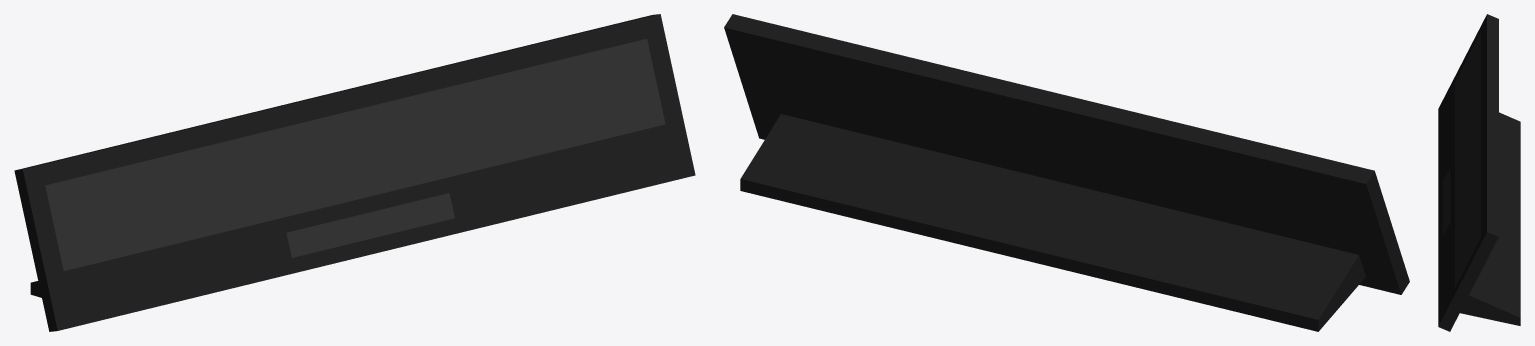
The model's file is NamePlateV1.fbx.
3 views of the same model, side by side, from view 1: azimuth 30°, elevation 25°; view 2: azimuth 150°, elevation 25°; view 3: azimuth 270°, elevation 25° (orthographic). The views are drawn at different scales.
Parts seen in each view (by area): view 1: NamePlateV1; view 2: NamePlateV1; view 3: NamePlateV1.
Part boxes in pixels (x1,y1,x2,y2): NamePlateV1: (14,14,695,331); NamePlateV1: (724,14,1409,331); NamePlateV1: (1438,14,1520,331).
Bounding box in the file's own units: 12.8 × 2.88 × 2.05.
